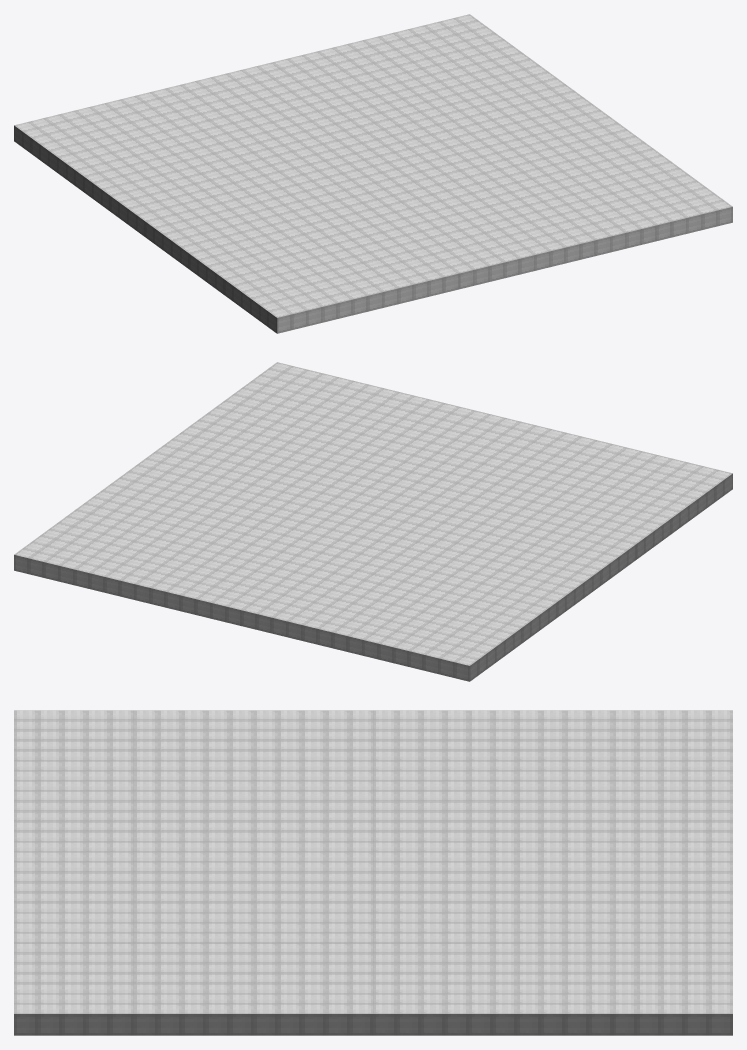
File: field.glb
The picture shows the model from 3 angles, top to bottom: view 1: azimuth 30°, elevation 25°; view 2: azimuth 150°, elevation 25°; view 3: azimuth 270°, elevation 25°; orthographic projection. The views are drawn at different scales.
Parts seen in each view (by area): view 1: node_5, node_2, node_6, node_3, node_4, node_1; view 2: node_5, node_2, node_6, node_3, node_4, node_1; view 3: node_2, node_5, node_3, node_6, node_1, node_4.
Boxes of the visible parts, x1=… form: node_5: x1=93, y1=127, x2=460, y2=301; node_2: x1=321, y1=72, x2=688, y2=230; node_6: x1=14, y1=69, x2=320, y2=198; node_3: x1=242, y1=14, x2=548, y2=127; node_4: x1=233, y1=230, x2=504, y2=333; node_1: x1=461, y1=174, x2=732, y2=278; node_5: x1=321, y1=450, x2=688, y2=623; node_2: x1=93, y1=394, x2=460, y2=552; node_6: x1=242, y1=552, x2=548, y2=681; node_3: x1=14, y1=497, x2=320, y2=626; node_4: x1=461, y1=417, x2=732, y2=520; node_1: x1=233, y1=362, x2=504, y2=449; node_2: x1=133, y1=862, x2=517, y2=1035; node_5: x1=133, y1=710, x2=517, y2=861; node_3: x1=517, y1=862, x2=732, y2=1035; node_6: x1=517, y1=710, x2=732, y2=861; node_1: x1=14, y1=862, x2=133, y2=1035; node_4: x1=14, y1=710, x2=133, y2=861.
Bounding box in the file's own units: 30 × 1 × 30.
Materials: 1 (1 with a texture image).
